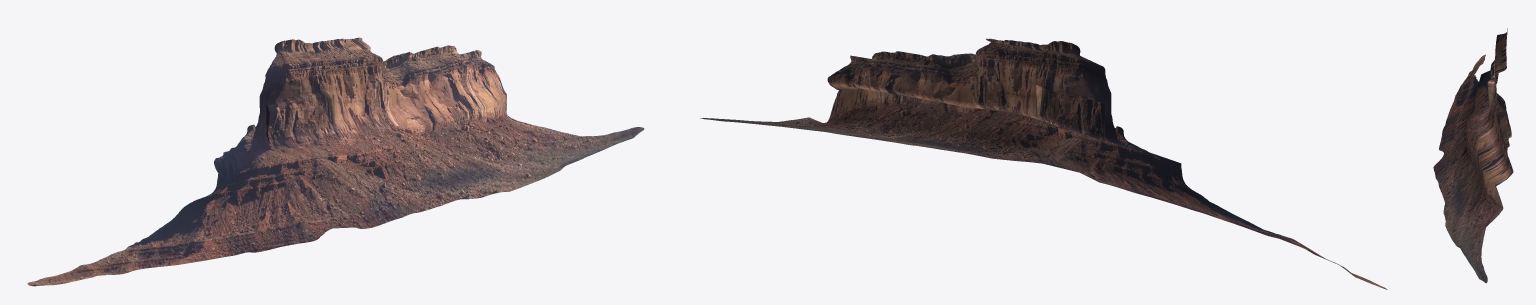
File: MesaFormation.FBX
The picture shows the model from 3 angles, left to right: view 1: azimuth 30°, elevation 25°; view 2: azimuth 150°, elevation 25°; view 3: azimuth 270°, elevation 25°; orthographic projection. The views are drawn at different scales.
Parts seen in each view (by area): view 1: Plane002; view 2: Plane002; view 3: Plane002.
Part boxes in pixels (left/top/right/bottom): Plane002: left=27, top=37, right=644, bottom=286; Plane002: left=700, top=38, right=1387, bottom=289; Plane002: left=1433, top=28, right=1513, bottom=283.
Bounding box in the file's own units: 4195 × 1110 × 745.
